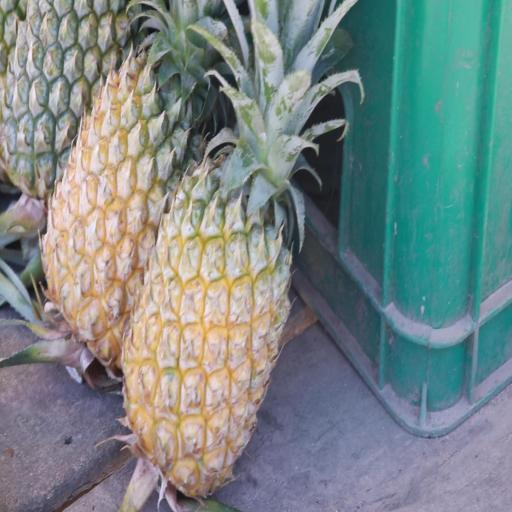Pineapple - v8 v1: (119, 98, 300, 505), (34, 0, 208, 371)
